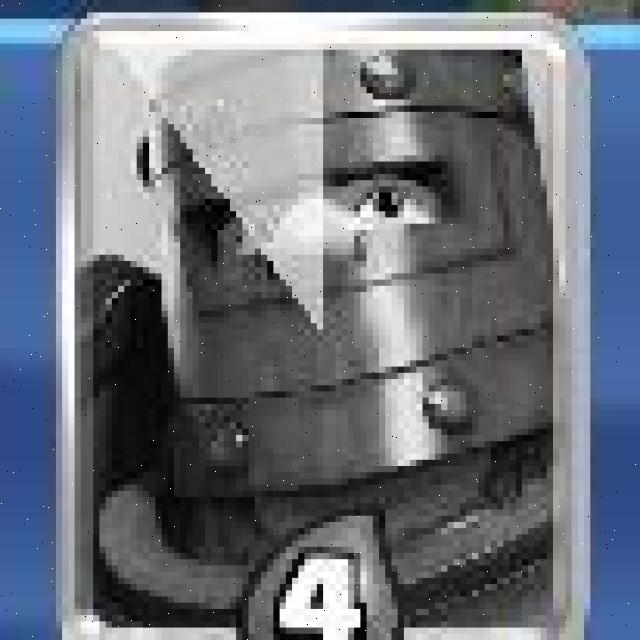Dark_Prince: (54, 10, 595, 640)
